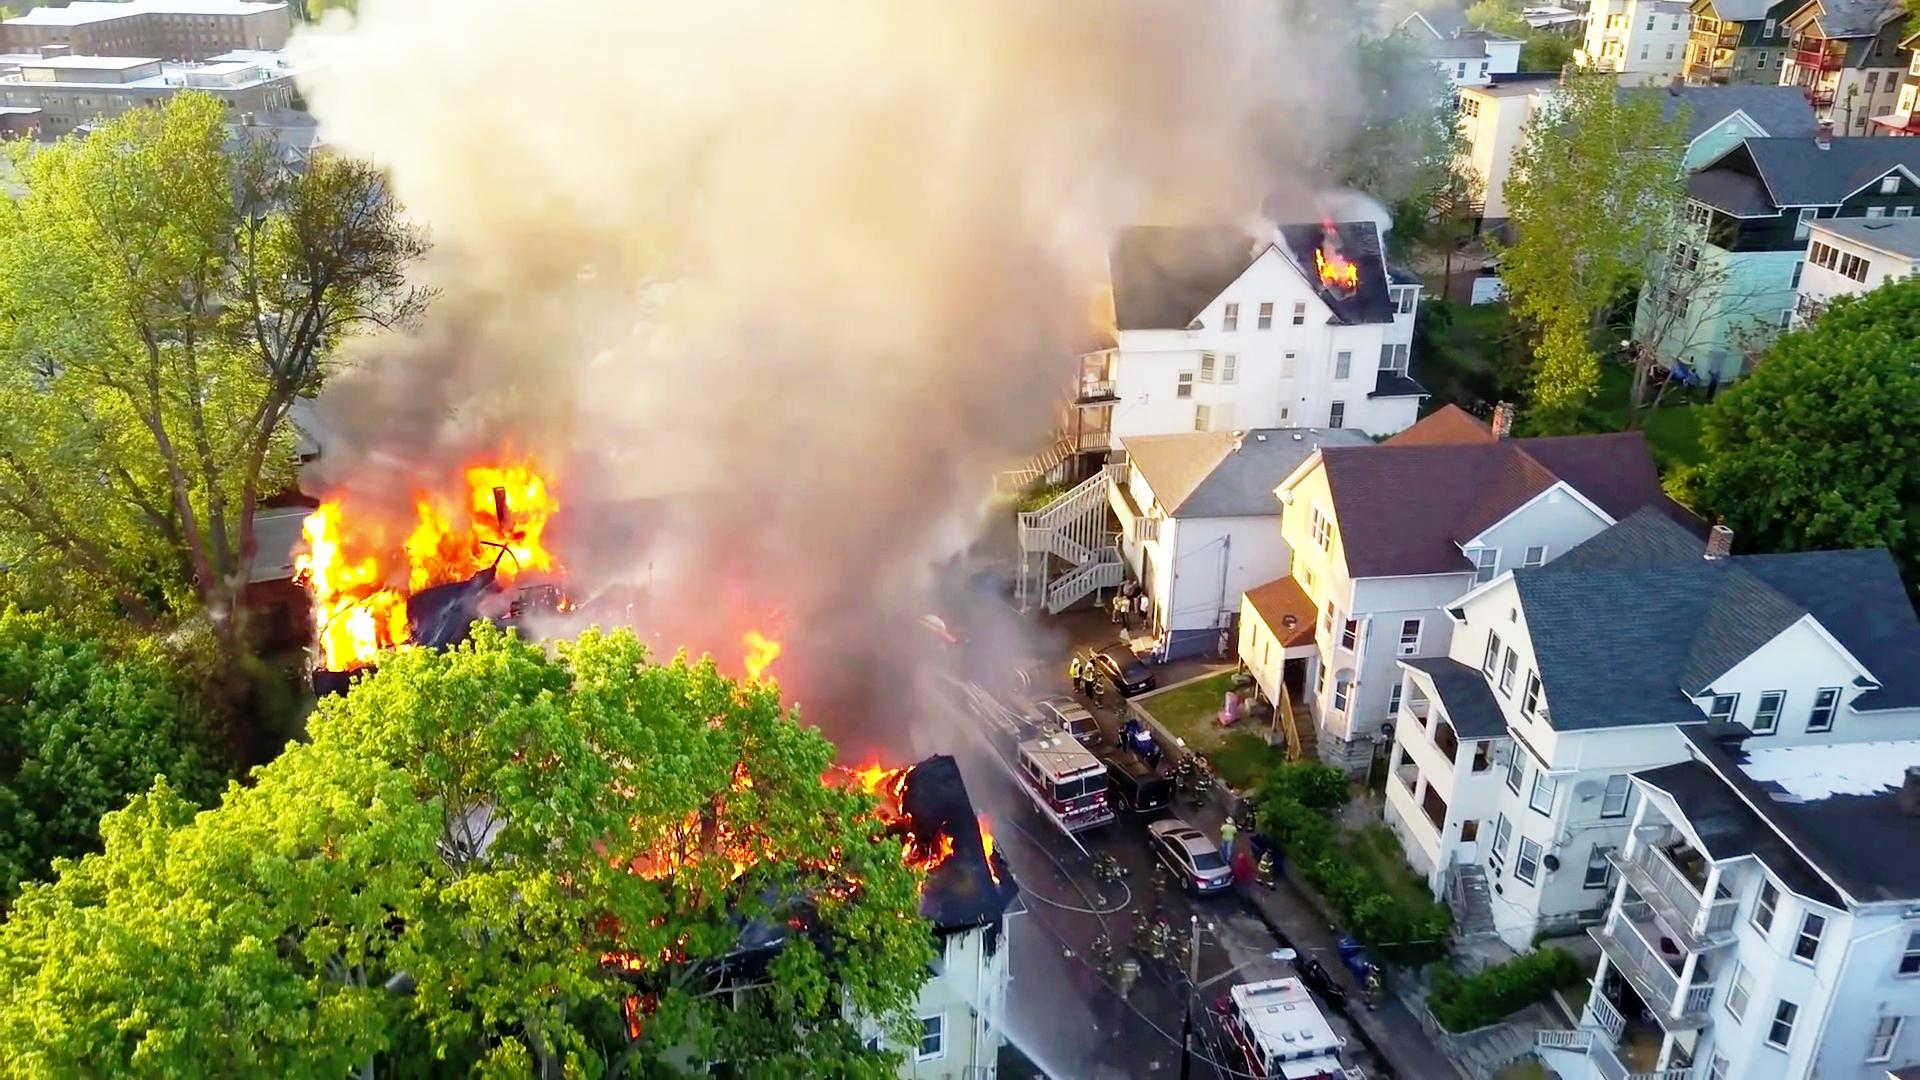fire: (289, 460, 553, 650)
smoke: (465, 13, 1083, 418)
